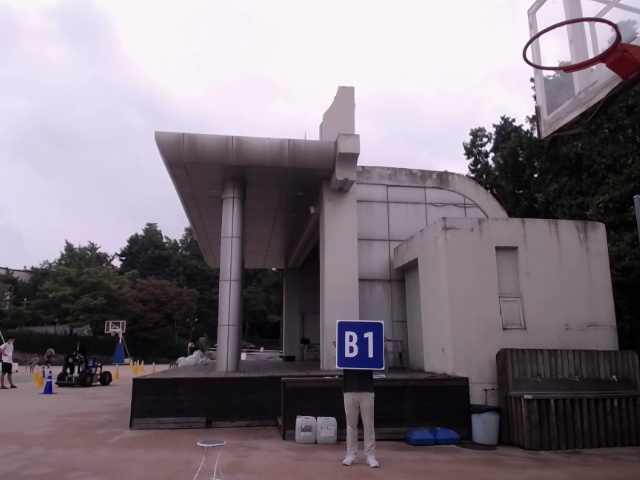delivery_b1: (336, 320, 384, 369)
